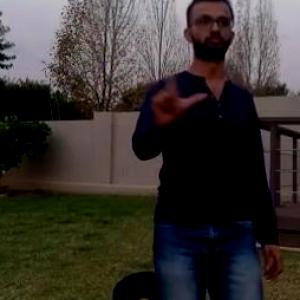land_hand: (146, 52, 210, 131)
